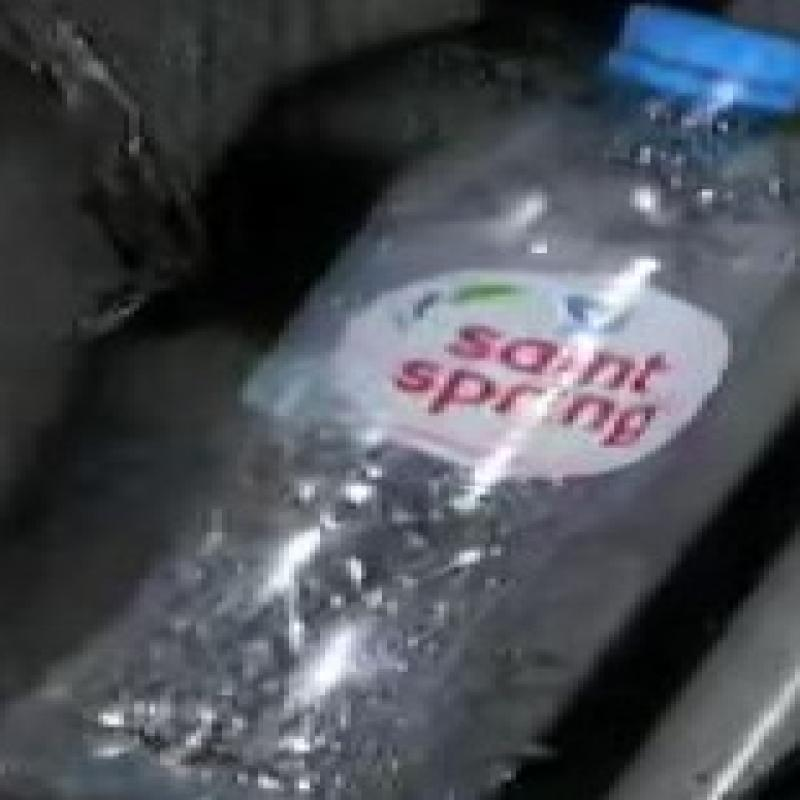botella: (14, 0, 800, 800)
